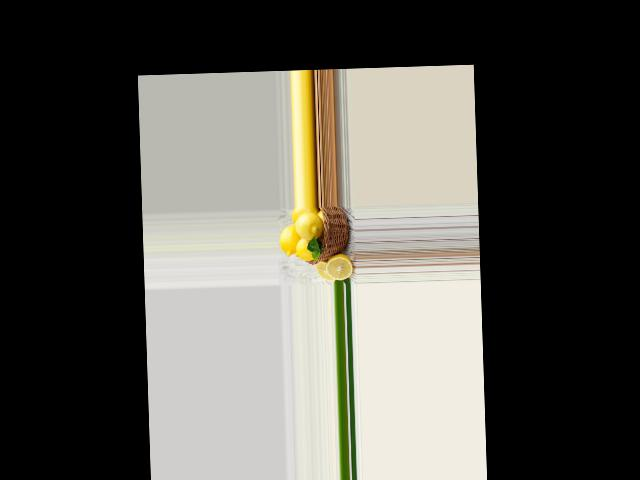lemon: (294, 234, 321, 263)
